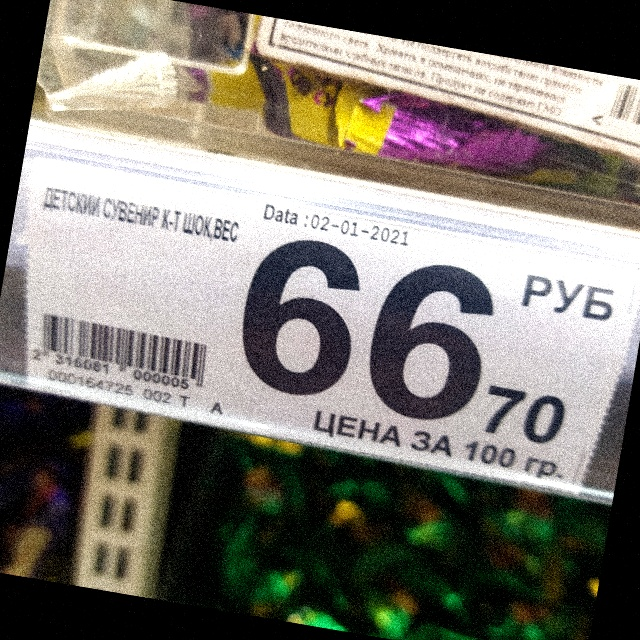barcode: (32, 312, 210, 390)
name: (42, 188, 241, 245)
price: (241, 235, 569, 444)
price_tag: (29, 159, 620, 485)
